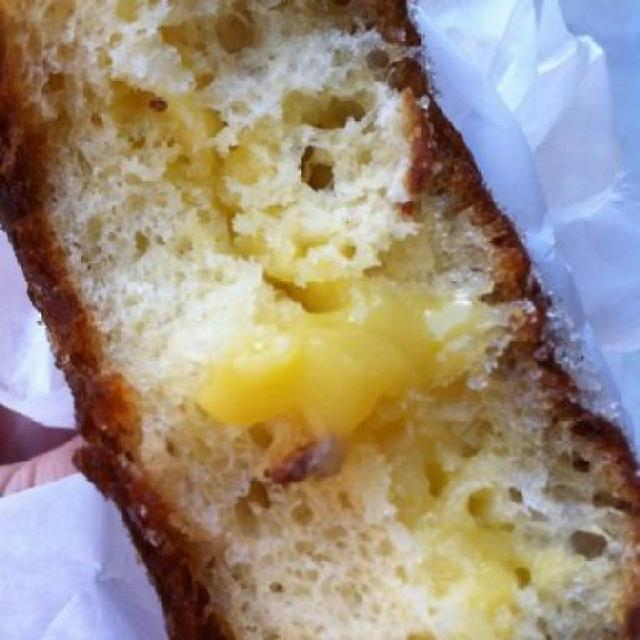Donuts: (1, 6, 639, 638)
